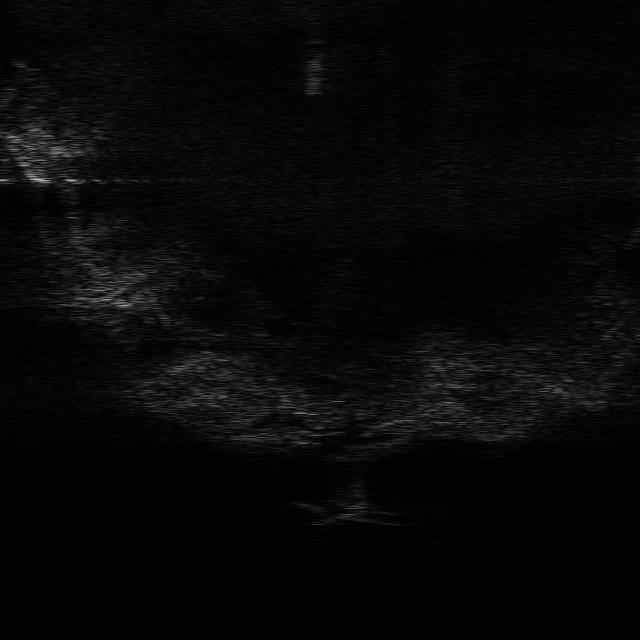plane: (294, 498, 402, 528)
